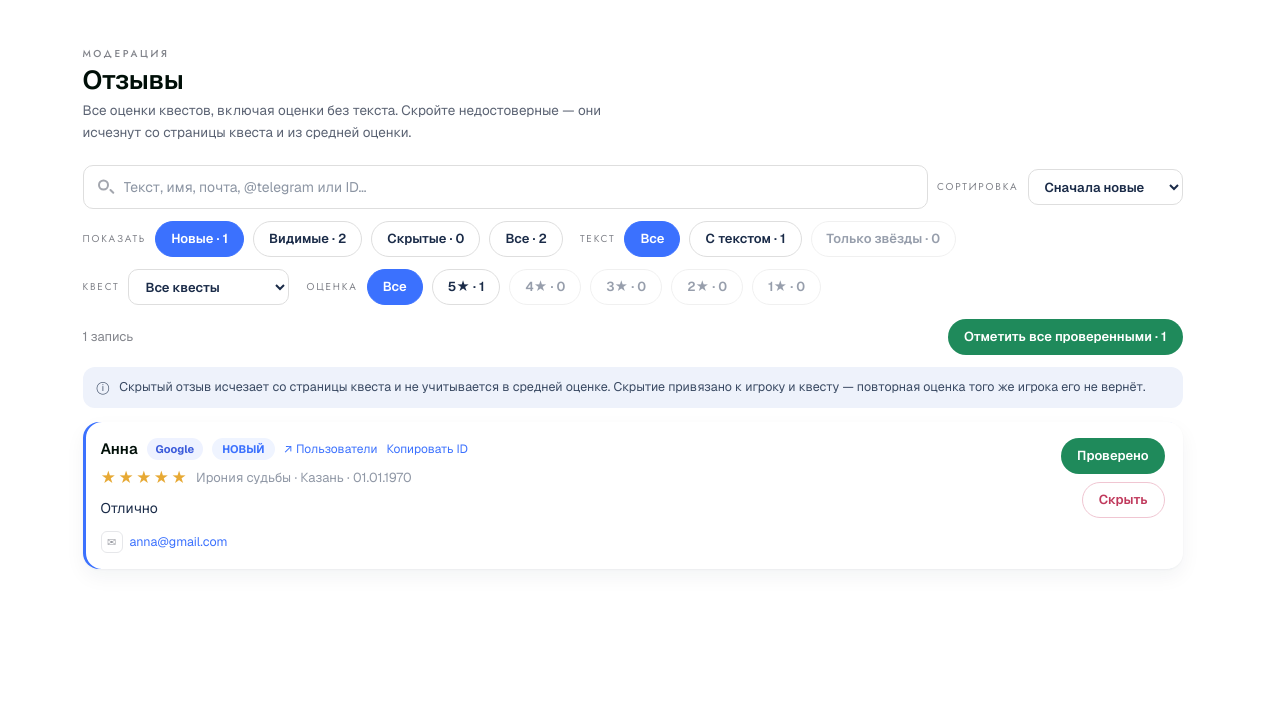
Test: AdminReviewsPage «Проверено» › hiding a new review checks it too
Expected: the text "Отлично" is shown, [100,499,158,517]
Step 1. Click the button "Скрыть" → (1123, 500), box [1082,482,1164,518]
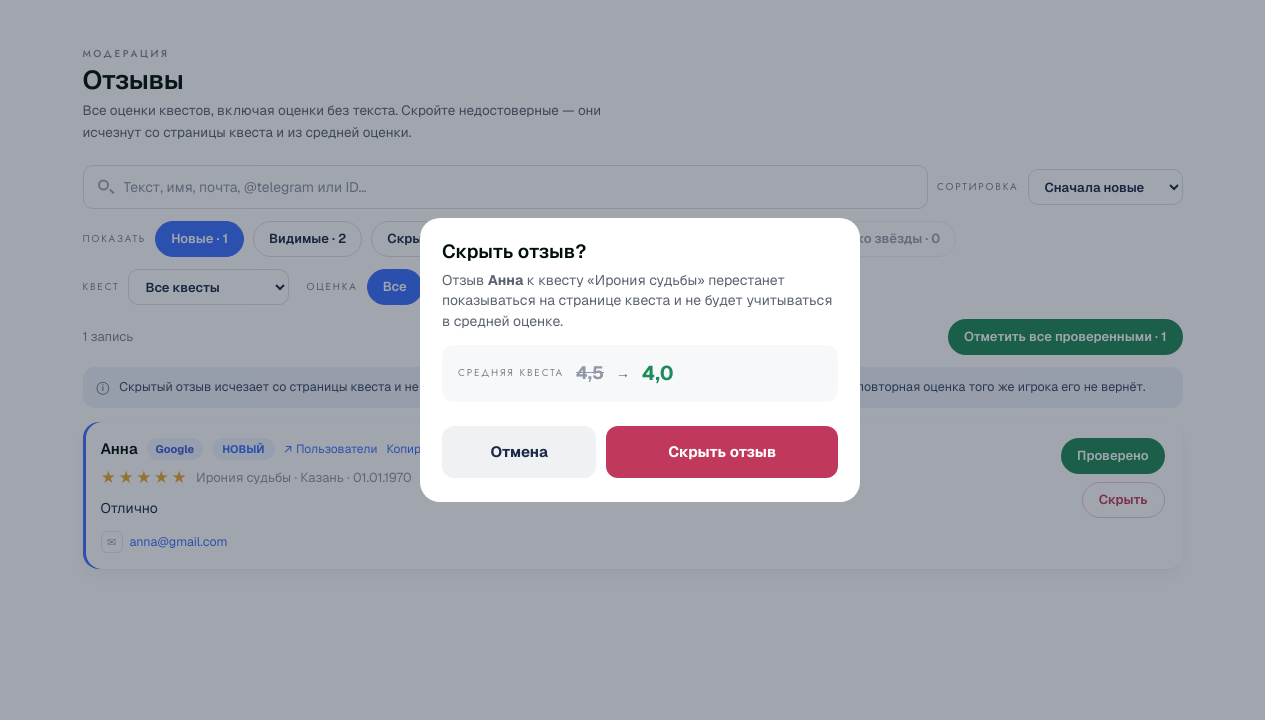
Step 2. Click the button "Скрыть отзыв" → (722, 452), box [606,426,838,478]
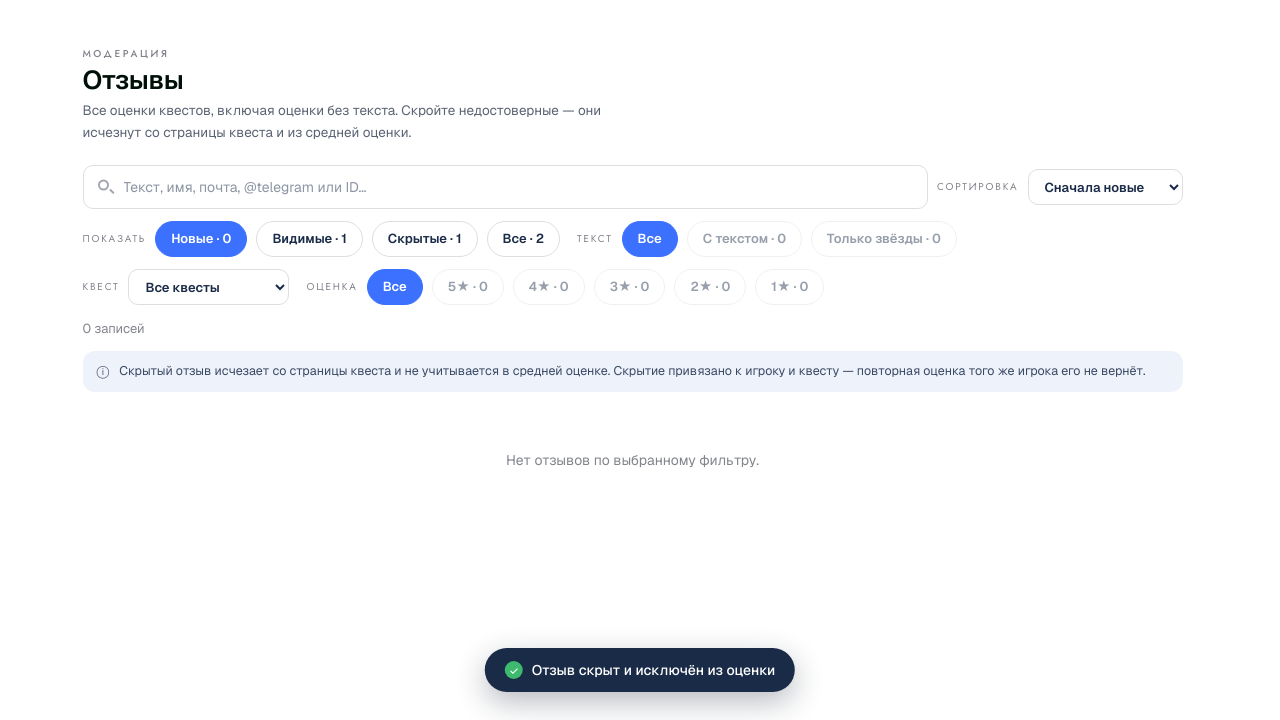
Expected: the button "Новые · 0" is shown, [155,221,247,257]
